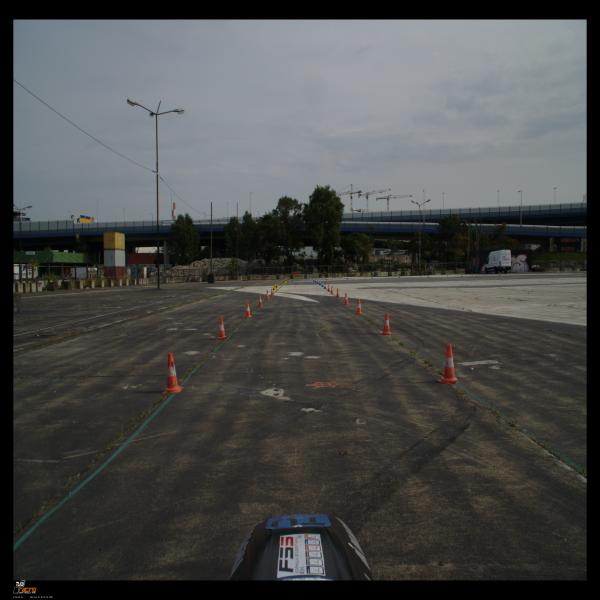blue_cone: (321, 282, 324, 287), (324, 283, 326, 289), (318, 281, 321, 285), (314, 279, 317, 282), (317, 280, 319, 284), (427, 274, 429, 278), (312, 278, 314, 281), (325, 277, 327, 280), (461, 274, 463, 277), (347, 276, 348, 280), (371, 276, 373, 278), (399, 275, 400, 278)
orange_cone: (162, 352, 184, 394), (438, 344, 458, 384), (380, 312, 394, 335), (216, 317, 228, 340), (245, 302, 252, 318), (356, 299, 363, 314), (344, 293, 350, 305), (258, 295, 264, 307), (265, 290, 270, 300), (335, 289, 340, 298), (330, 286, 334, 294), (270, 288, 274, 296), (328, 284, 330, 292), (475, 273, 478, 277), (499, 272, 501, 276)
yellow_cone: (273, 286, 276, 293), (276, 284, 278, 290), (281, 281, 283, 286), (471, 273, 474, 276), (274, 284, 276, 288), (283, 280, 285, 284), (288, 278, 290, 282), (301, 277, 303, 281), (318, 277, 320, 280), (365, 275, 367, 278), (420, 274, 422, 277), (285, 280, 286, 284), (394, 274, 395, 278), (340, 276, 341, 279), (447, 274, 448, 276)
